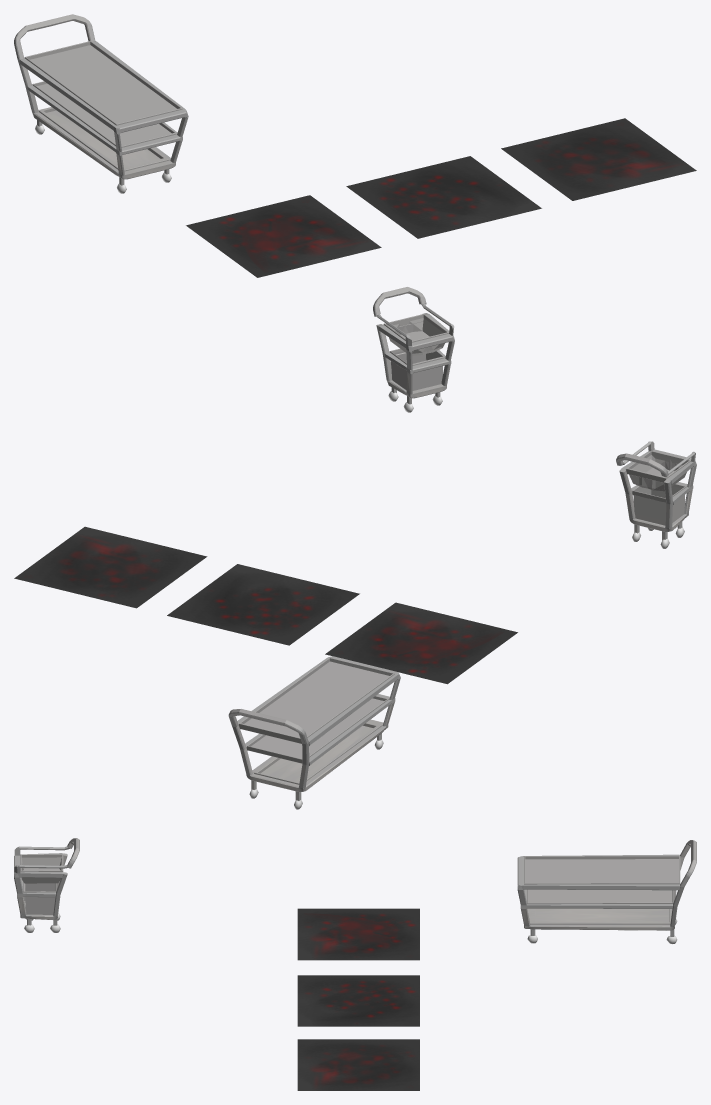
The model's file is decor3.FBX.
3 views of the same model, one above another, from view 1: azimuth 30°, elevation 25°; view 2: azimuth 150°, elevation 25°; view 3: azimuth 270°, elevation 25° (orthographic). The views are drawn at different scales.
Parts seen in each view (by area): view 1: plaeau roulant, intouchable_02, intouchable_01, intouchable_03, plateau roulant2; view 2: plaeau roulant, intouchable_02, intouchable_03, intouchable_01, plateau roulant2; view 3: plaeau roulant, intouchable_01, intouchable_02, intouchable_03, plateau roulant2.
Boxes of the visible parts, x1,y1,x2,y2 form: plaeau roulant: [14, 14, 188, 185]; intouchable_02: [346, 156, 541, 238]; intouchable_01: [186, 195, 381, 277]; intouchable_03: [501, 118, 696, 200]; plateau roulant2: [373, 287, 454, 404]; plaeau roulant: [228, 656, 400, 800]; intouchable_02: [167, 564, 359, 645]; intouchable_03: [14, 526, 207, 608]; intouchable_01: [325, 602, 517, 684]; plateau roulant2: [616, 441, 696, 540]; plaeau roulant: [517, 840, 696, 936]; intouchable_01: [297, 908, 419, 960]; intouchable_02: [297, 975, 419, 1026]; intouchable_03: [297, 1039, 419, 1090]; plateau roulant2: [14, 838, 79, 925].
Bounding box in the file's own units: 367 × 76.65 × 559.
